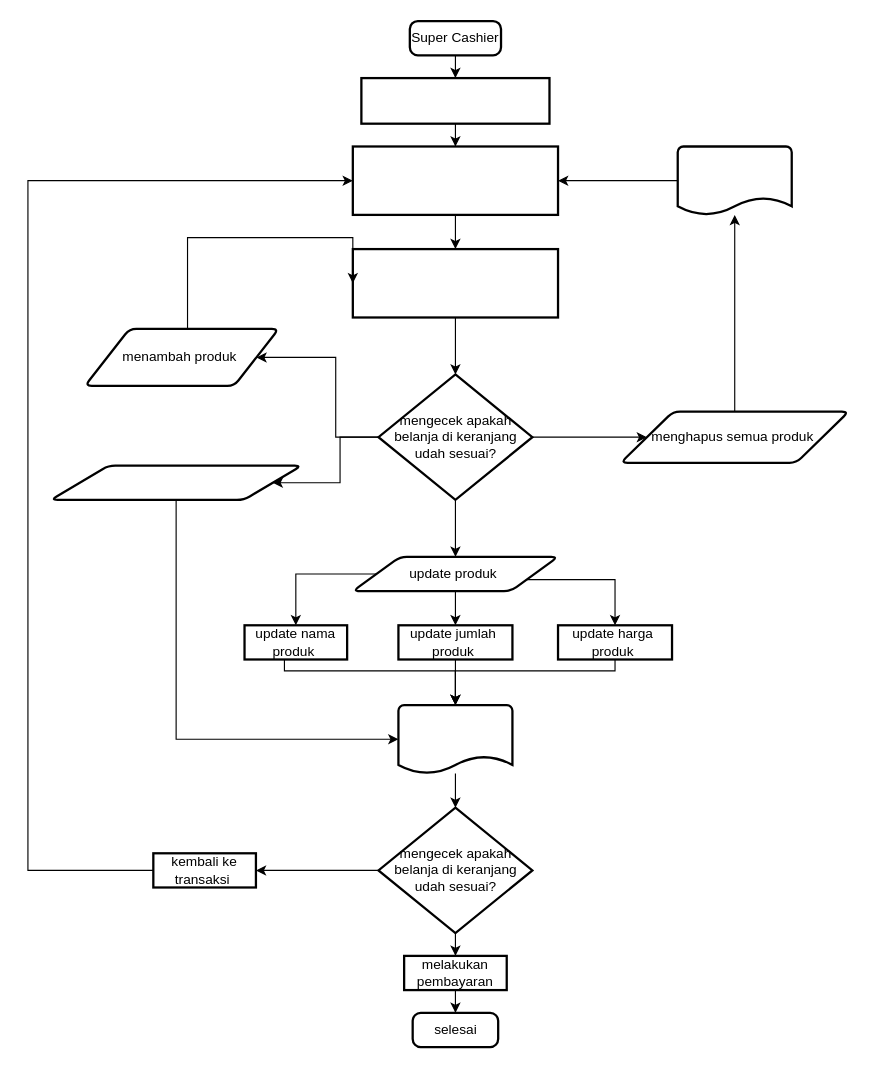
Some shapes in this 870 by 1067 pixel diagram are drawn without their labels. Here are the shapes that lost their labels. From the top down, the box of each, then its label:
(360, 76, 550, 124): memasukkan id dan tanggal transaksi
(351, 145, 559, 215): halaman utama transaksi
(676, 145, 792, 215): semua produk terhapus
(351, 247, 559, 318): menginput nama produk, jumlah item, dan harga item
(49, 464, 302, 500): menghapus produk tertentu
(397, 703, 513, 774): update data produk
